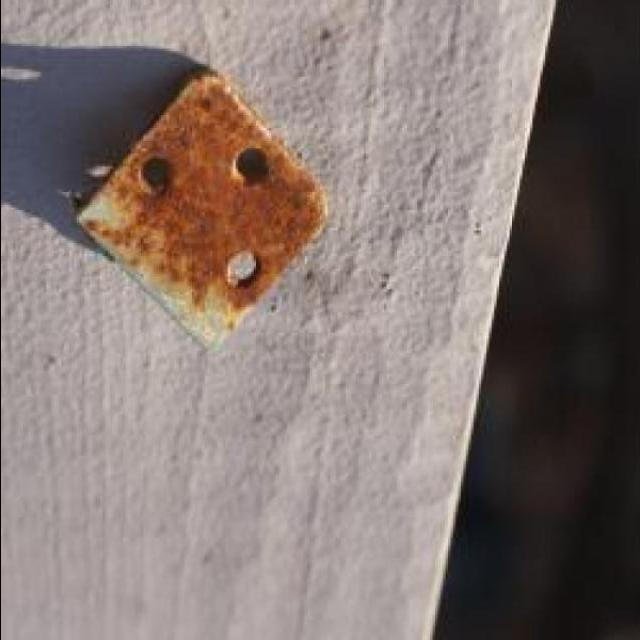Crack: (1, 0, 557, 639)
